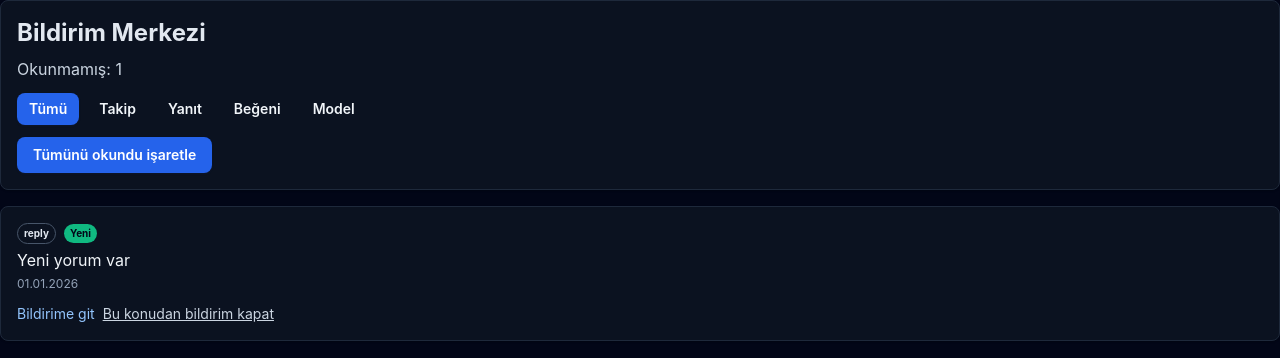
Test case: NotificationsClient integration › loads notifications and marks all as read
The width and height of the screenshot is (1280, 358).
Expected: the text "Yeni yorum var" is shown, [17,248,130,272]
Expected: the text "Okunmamış: 1" is shown, [17,59,122,79]
Click the button "Tümünü okundu işaretle".
click(115, 155)  # box [17,137,212,173]
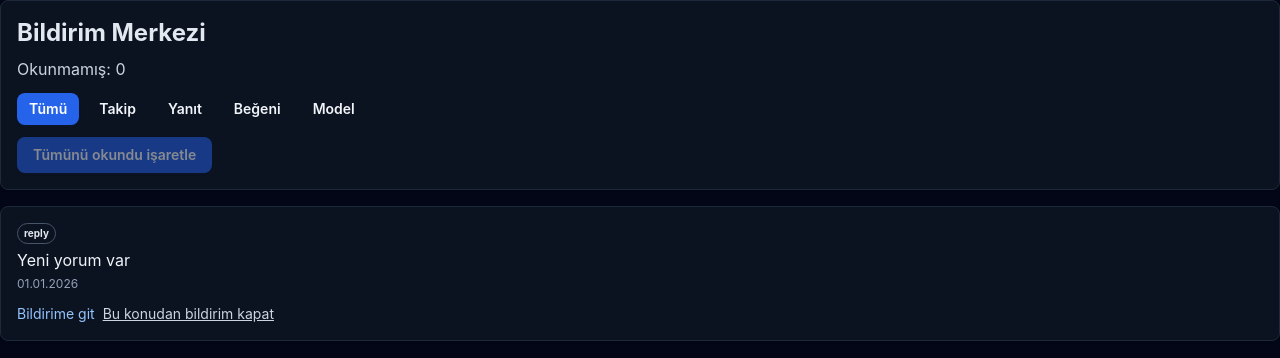
Expected: the text "Okunmamış: 0" is shown, [17,59,126,79]
